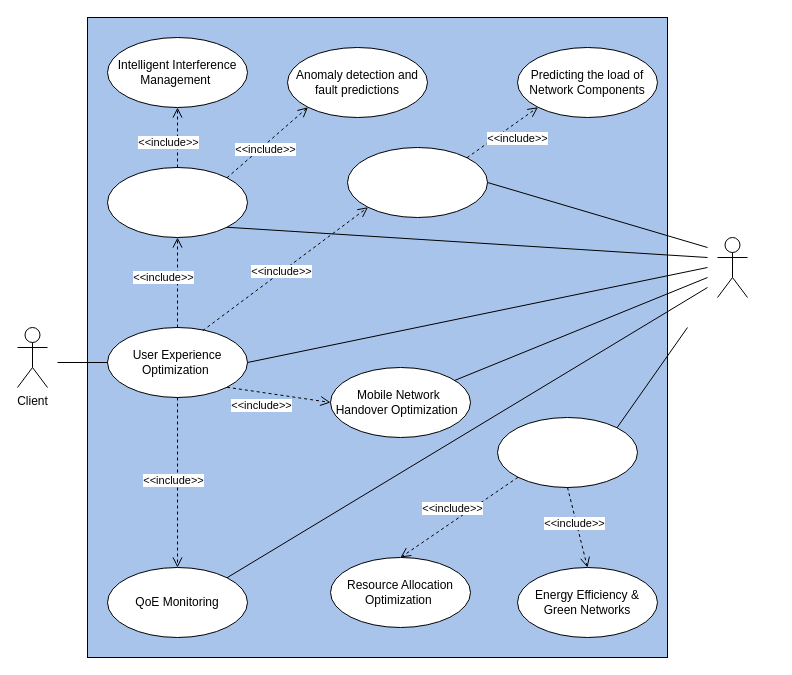
Image size: 792x675. Some labels were removed from this diagram. The centre of each missing label's shape, as x and y in pixels:
"Infrastructure Cost Reduction" goes at (x=567, y=452).
"Network/service provider" goes at (x=732, y=267).
"Self-Healing Network Mechanisms" goes at (x=177, y=202).
"Smart Traffic Routing & Load Balancing" goes at (x=417, y=182).
